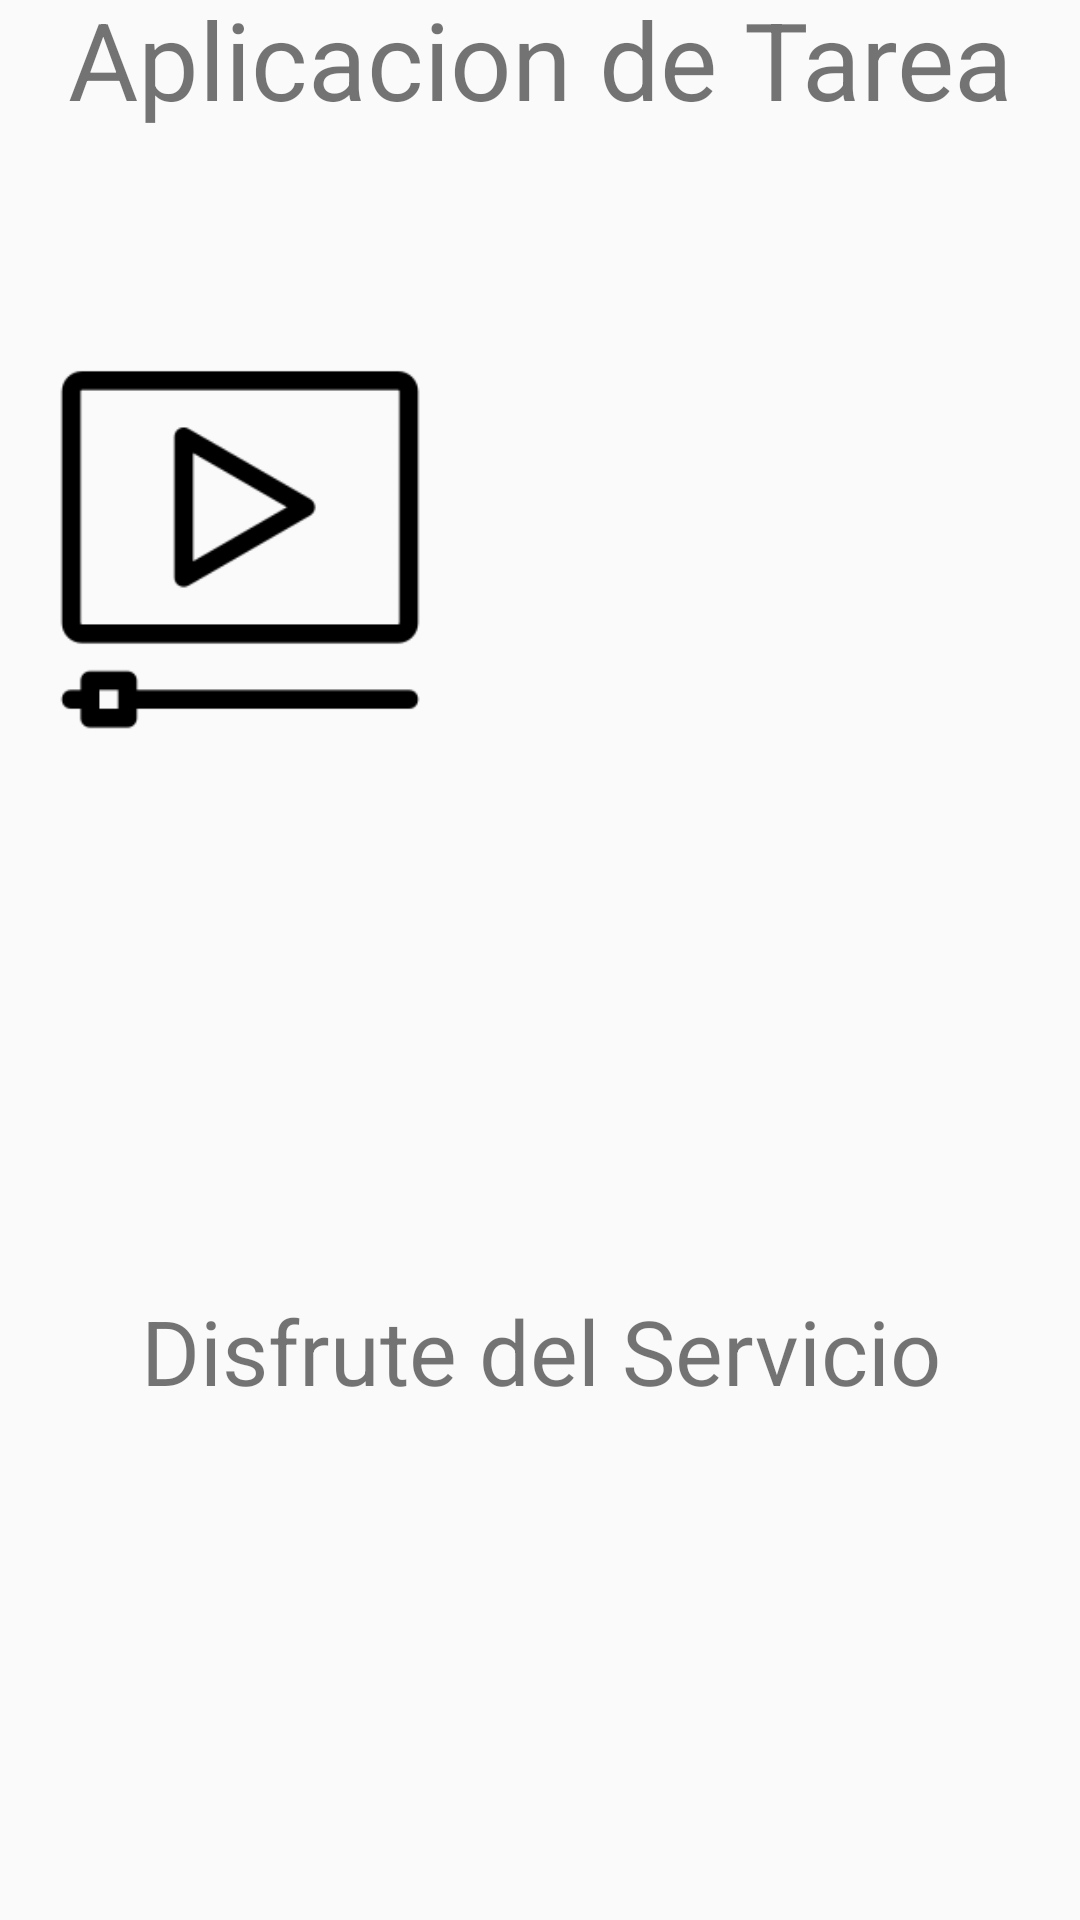

Named icons in this screenshot (1080 x 1920) and their centers, (x,y):
movie: (240,550)
